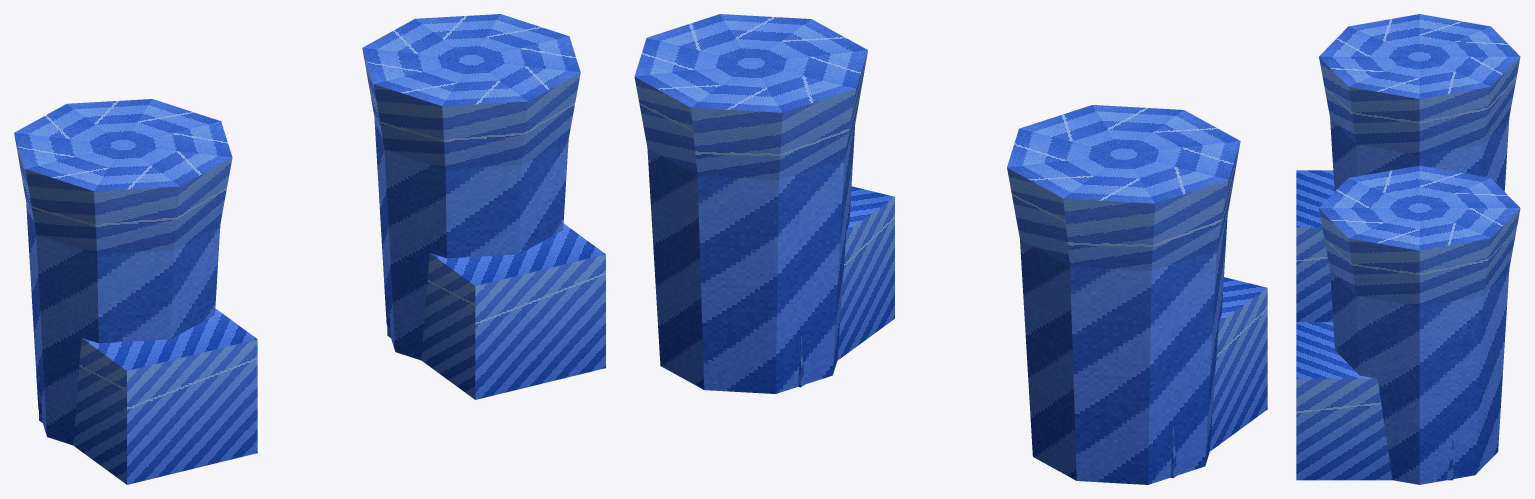
File: luvas_de_safira.glb
3 views of the same model, side by side, from view 1: azimuth 30°, elevation 25°; view 2: azimuth 150°, elevation 25°; view 3: azimuth 270°, elevation 25° (orthographic). The views are drawn at different scales.
Visible parts, largest first — view 1: luvas_de_safira; view 2: luvas_de_safira; view 3: luvas_de_safira.
Boxes of the visible parts, left/top/right/bottom form: luvas_de_safira: left=14, top=14, right=605, bottom=484; luvas_de_safira: left=634, top=14, right=1267, bottom=484; luvas_de_safira: left=1296, top=14, right=1520, bottom=484.
Bounding box in the file's own units: 0.5 × 0.24 × 0.2.
Materials: 1 (1 with a texture image).
